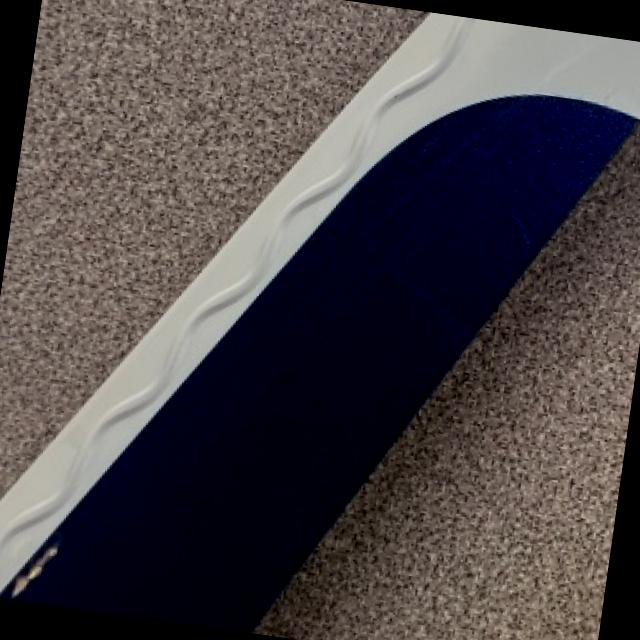healthy: (385, 19, 550, 149)
